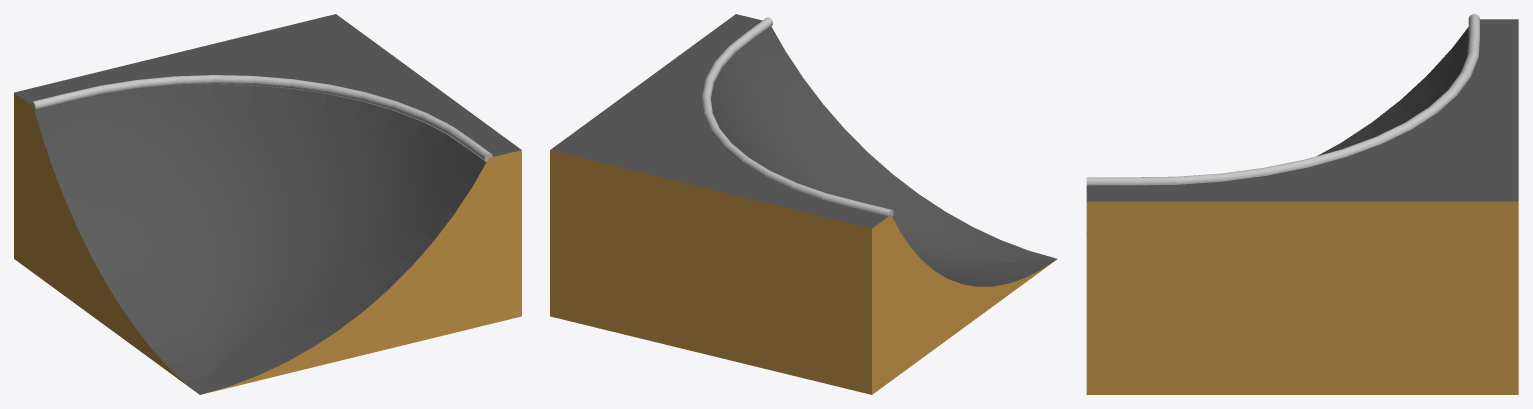
The model's file is Skate_Bowl_Corner_Rail_01.FBX.
3 renders of one model, left to right at view 1: azimuth 30°, elevation 25°; view 2: azimuth 150°, elevation 25°; view 3: azimuth 270°, elevation 25°, orthographic. The views are drawn at different scales.
Parts seen in each view (by area): view 1: Skate_Bowl_Corner_Rail_01; view 2: Skate_Bowl_Corner_Rail_01; view 3: Skate_Bowl_Corner_Rail_01.
Part boxes in pixels (left/top/right/bottom): Skate_Bowl_Corner_Rail_01: left=14, top=14, right=521, bottom=394; Skate_Bowl_Corner_Rail_01: left=550, top=14, right=1057, bottom=394; Skate_Bowl_Corner_Rail_01: left=1086, top=14, right=1518, bottom=394.
Bounding box in the file's own units: 3003 × 1522 × 3003.
